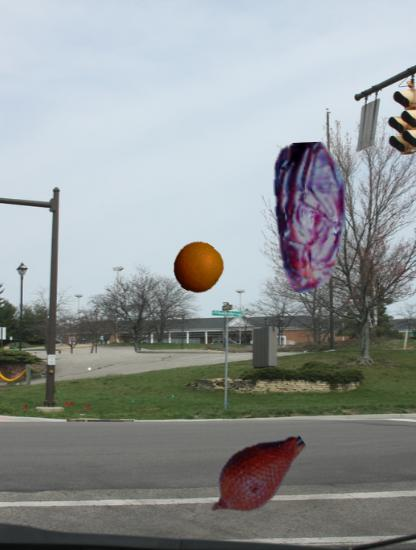Dates: (236, 142, 386, 292)
Orange: (173, 242, 224, 293)
Salak: (199, 417, 315, 533)
